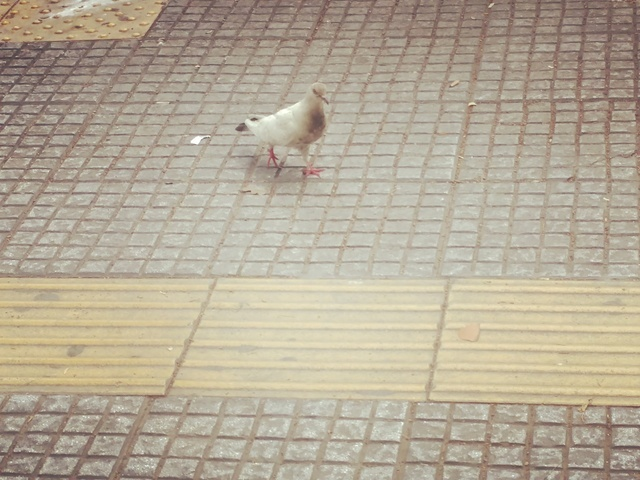Pigeon: (232, 80, 334, 181)
